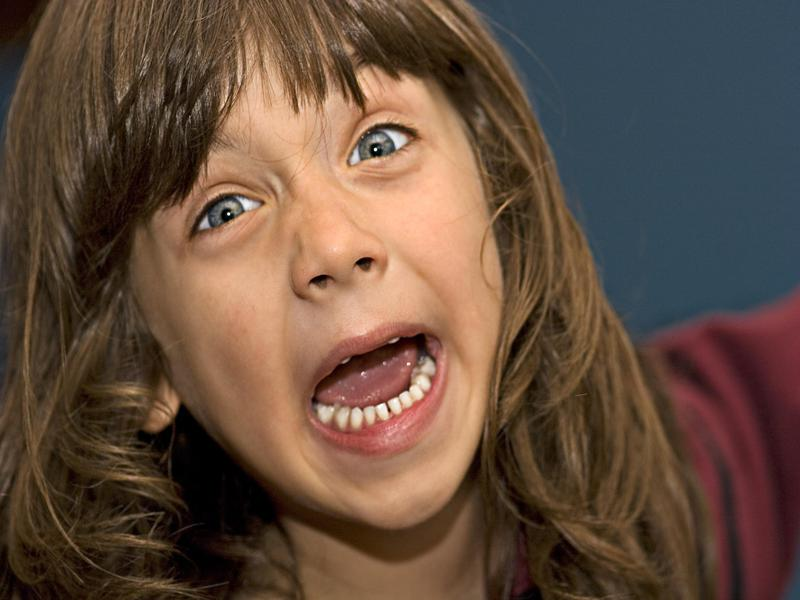person: (9, 1, 735, 600)
